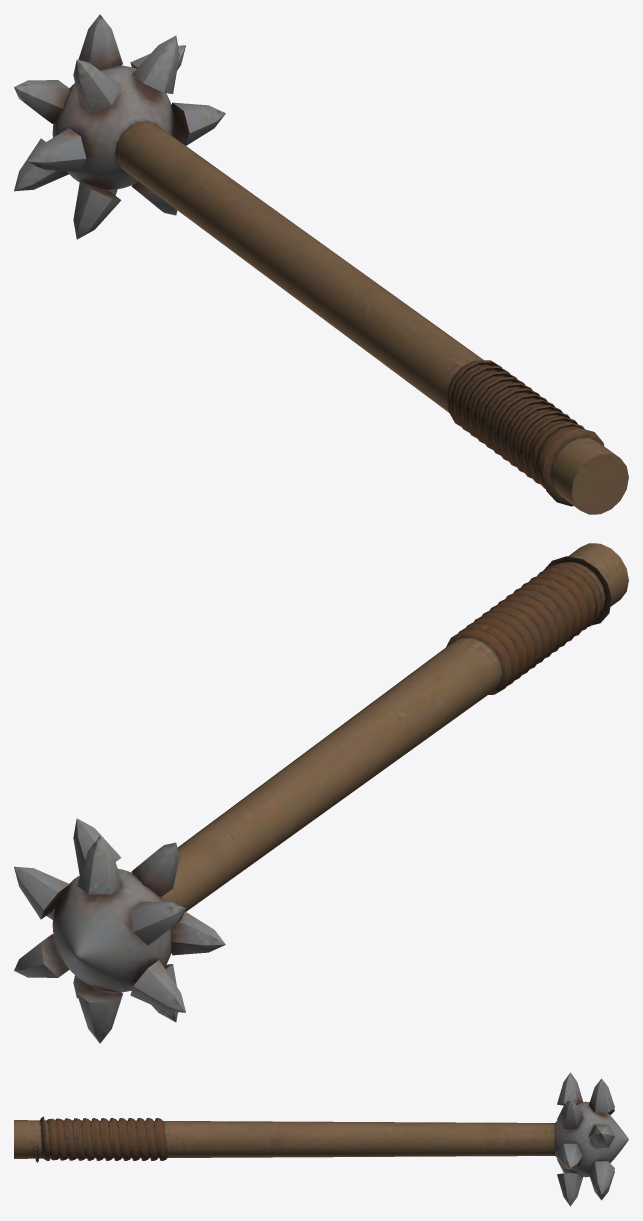
Rendered from spiked_mace.glb.
3 views of the same model, one above another, from view 1: azimuth 30°, elevation 25°; view 2: azimuth 150°, elevation 25°; view 3: azimuth 270°, elevation 25° (orthographic). The views are drawn at different scales.
Parts seen in each view (by area): view 1: spiked_mace; view 2: spiked_mace; view 3: spiked_mace.
Boxes of the visible parts, box(x1,y1,x2,y2) form: spiked_mace: box(14, 14, 628, 514); spiked_mace: box(14, 543, 628, 1043); spiked_mace: box(14, 1072, 628, 1206).
Bounding box in the file's own units: 0.1248 × 0.1248 × 0.5698.
1 material, 1 textured.
